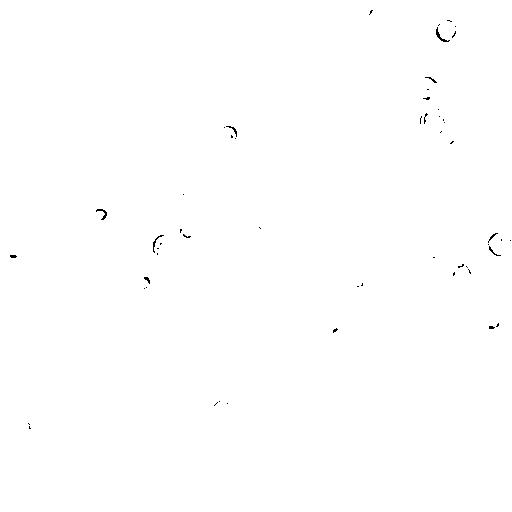micro-algae: (57, 108, 171, 221), (13, 73, 96, 149), (313, 451, 414, 511), (379, 52, 442, 115), (207, 6, 262, 63), (431, 100, 484, 154), (230, 228, 279, 282), (77, 263, 122, 305), (341, 434, 377, 469), (418, 105, 451, 138), (43, 30, 75, 64), (154, 129, 185, 160), (35, 481, 67, 511), (253, 421, 282, 449), (151, 233, 178, 263), (411, 75, 440, 100), (486, 230, 512, 257), (449, 260, 472, 289), (321, 17, 350, 39), (195, 127, 225, 148), (398, 297, 424, 321), (435, 19, 459, 43), (445, 136, 472, 157), (134, 253, 159, 275), (1, 144, 15, 182), (426, 309, 447, 334), (209, 399, 235, 419), (217, 123, 239, 146), (458, 53, 481, 75), (469, 472, 489, 496), (321, 313, 344, 333), (177, 219, 199, 239), (179, 177, 197, 200), (27, 281, 46, 301), (492, 122, 511, 142), (15, 416, 31, 438), (7, 239, 24, 259), (481, 313, 501, 330), (355, 0, 375, 16), (248, 224, 266, 241), (424, 245, 440, 264), (91, 207, 111, 222), (478, 0, 501, 10), (238, 241, 253, 256), (137, 276, 151, 289), (9, 504, 33, 511), (351, 277, 365, 287)
